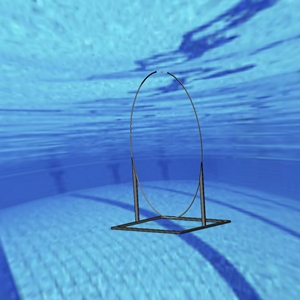circle: (111, 70, 231, 233)
